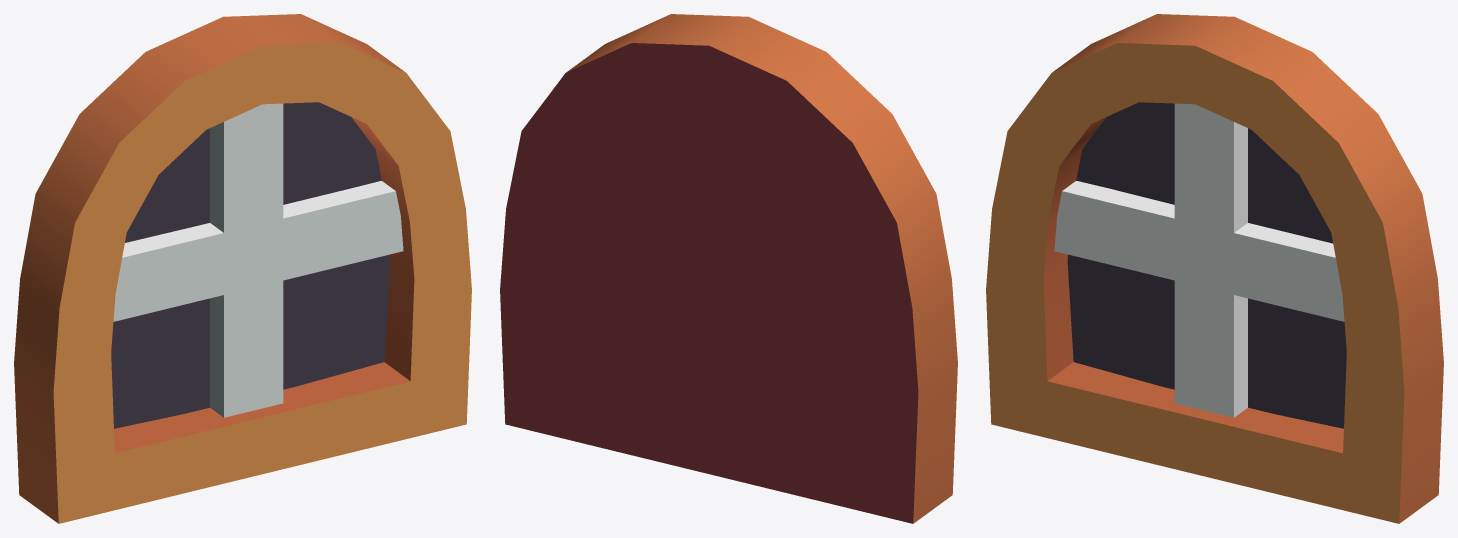
File: SmallWindow01_Orange_White.glb
3 renders of one model, left to right at view 1: azimuth 30°, elevation 25°; view 2: azimuth 150°, elevation 25°; view 3: azimuth 330°, elevation 25°, orthographic.
Visible parts, largest first — view 1: SmallWindow01_Orange_White; view 2: SmallWindow01_Orange_White; view 3: SmallWindow01_Orange_White.
Part boxes in pixels (x1,y1,x2,y2): SmallWindow01_Orange_White: (14, 14, 471, 523); SmallWindow01_Orange_White: (500, 14, 957, 523); SmallWindow01_Orange_White: (986, 14, 1443, 523).
Bounding box in the file's own units: 0.5801 × 0.5676 × 0.0949.
Materials: 1 (1 with a texture image).
